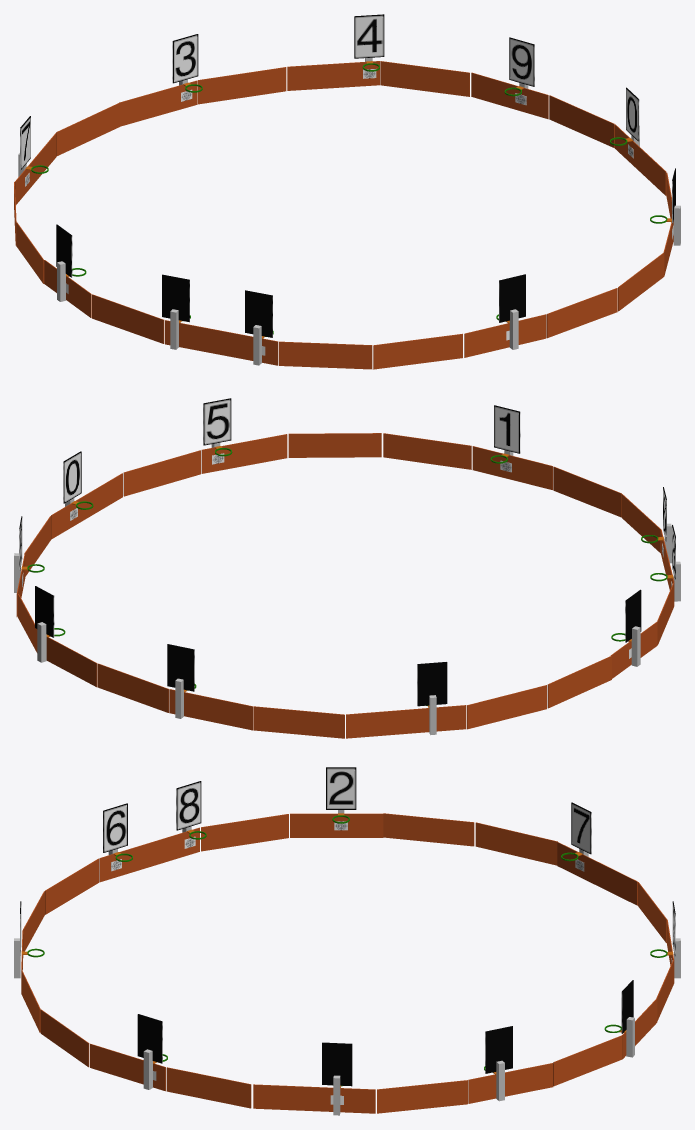
Rendered from sick_robot_day_2014_with_stations.dae.
3 views of the same model, one above another, from view 1: azimuth 30°, elevation 25°; view 2: azimuth 150°, elevation 25°; view 3: azimuth 270°, elevation 25° (orthographic).
Visible parts, largest first — view 1: BoundaryBank_002, Cube_016, Cube_015, Cube_035, Cube_024, Cube_036, Cube_007, Cube_008, Cube; view 2: BoundaryBank_002, Cube_031, Cube_023, Cube_007, Cube_015, Cube, Cube_016, Cube_008; view 3: BoundaryBank_002, Cube_008, Cube, Cube_036, Cube_035, Cube_024, Cube_023, Cube_031.
Boxes of the visible parts, x1,y1,x2,y2 form: BoundaryBank_002: [14, 61, 673, 369]; Cube_016: [354, 14, 384, 58]; Cube_015: [172, 34, 198, 83]; Cube_035: [162, 274, 189, 322]; Cube_024: [245, 290, 272, 337]; Cube_036: [509, 37, 534, 86]; Cube_007: [499, 274, 525, 322]; Cube_008: [56, 224, 72, 277]; Cube: [626, 87, 639, 141]; BoundaryBank_002: [16, 433, 674, 738]; Cube_031: [417, 662, 447, 706]; Cube_023: [203, 398, 231, 445]; Cube_007: [494, 405, 520, 453]; Cube_015: [167, 644, 194, 691]; Cube: [63, 451, 81, 503]; Cube_016: [35, 586, 54, 637]; Cube_008: [625, 589, 641, 642]; BoundaryBank_002: [21, 813, 674, 1113]; Cube_008: [326, 767, 356, 809]; Cube: [322, 1042, 352, 1086]; Cube_036: [485, 1026, 512, 1073]; Cube_035: [176, 781, 201, 830]; Cube_024: [103, 803, 127, 852]; Cube_023: [137, 1014, 162, 1063]; Cube_031: [571, 802, 591, 854].
Bounding box in the file's own units: 12.6 × 12.63 × 1.45.
Materials: 15 (11 with a texture image).
